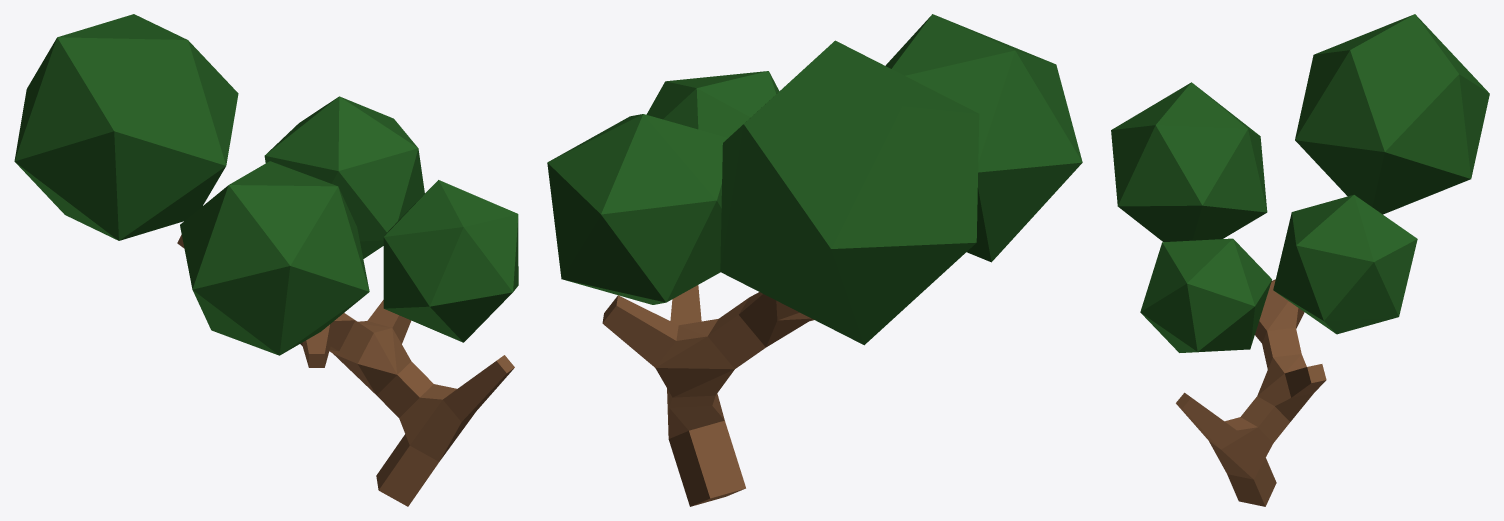
The model's file is Tundra_Bush_Small.fbx.
3 renders of one model, left to right at view 1: azimuth 30°, elevation 25°; view 2: azimuth 150°, elevation 25°; view 3: azimuth 270°, elevation 25°, orthographic. The views are drawn at different scales.
Visible parts, largest first — view 1: Icosphere.058, Cube.016; view 2: Icosphere.058, Cube.016; view 3: Icosphere.058, Cube.016.
Part boxes in pixels (x1,y1,x2,y2): Icosphere.058: (14,14,518,355); Cube.016: (177,235,514,506); Icosphere.058: (547,14,1082,345); Cube.016: (602,285,813,506); Icosphere.058: (1111,14,1489,352); Cube.016: (1176,279,1326,506).
Bounding box in the file's own units: 154 × 175 × 155.
